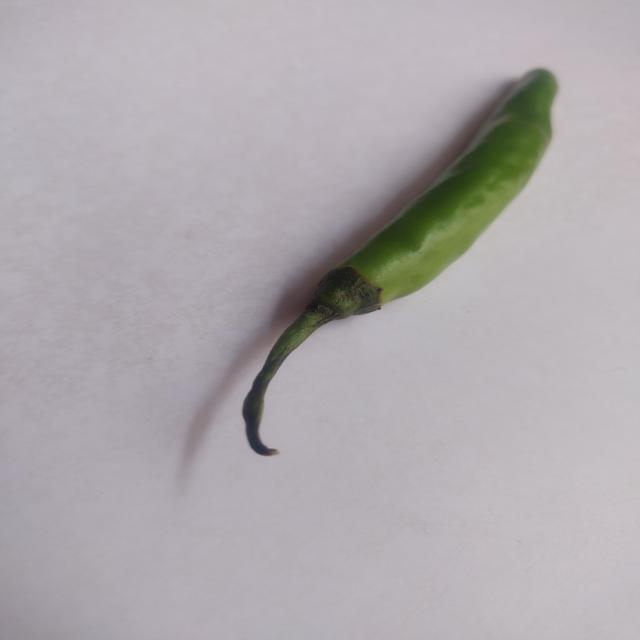Green Chilly: (117, 40, 631, 527)
